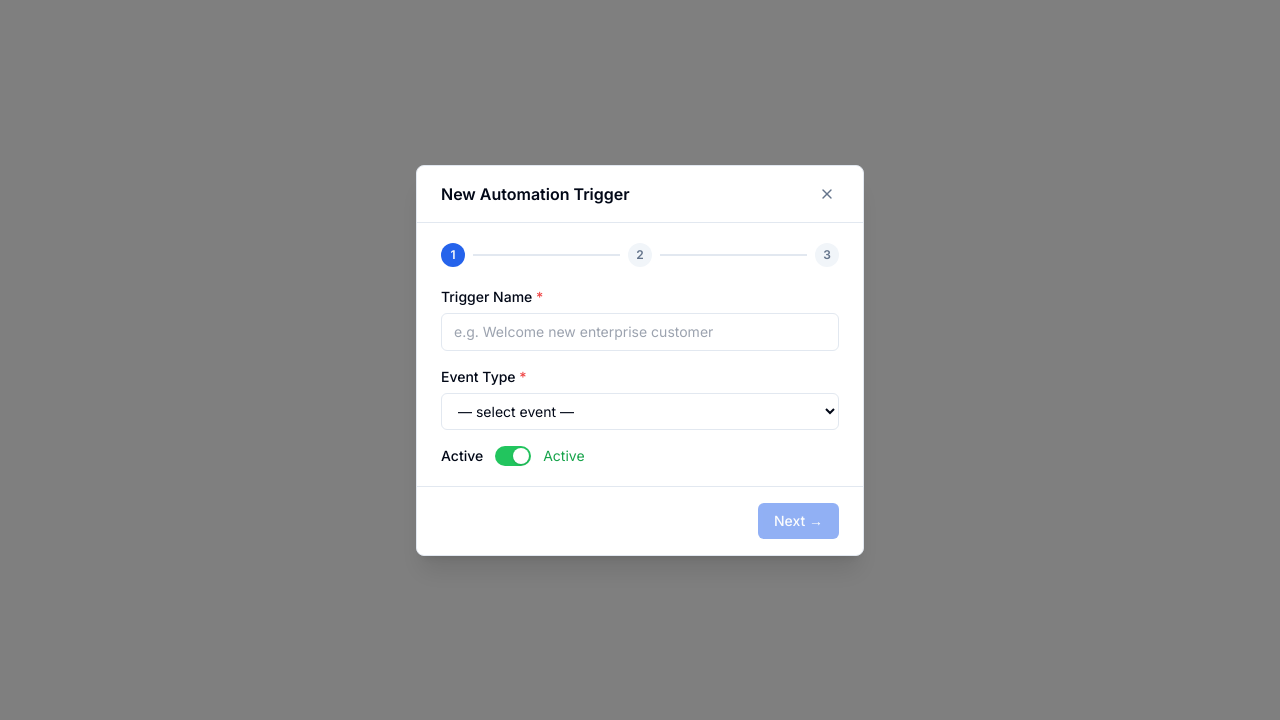
Test: CreateTriggerModal › value input is hidden for is_empty operator
This screenshot has width=1280, height=720.
Type "My Trigger" into the field labelled "Trigger Name *".
click(640, 332); type("My Trigger")  # box [441,312,839,350]
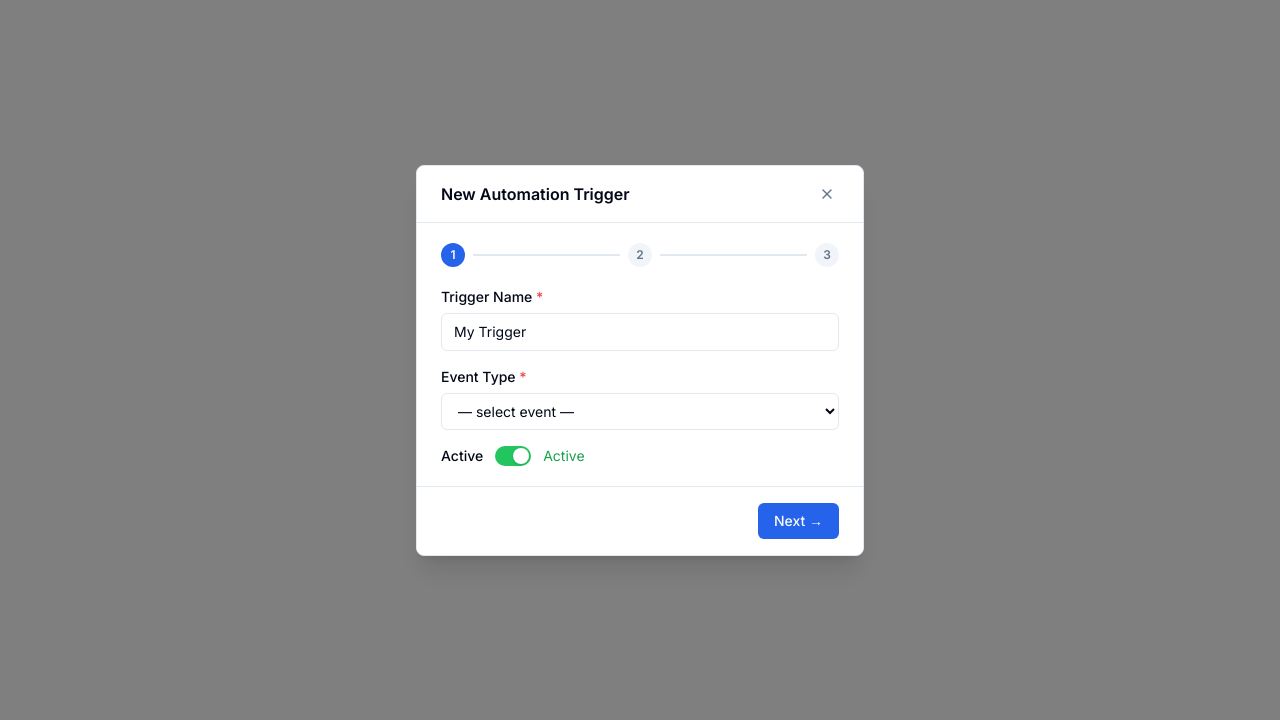
Click the button "Next →".
click(798, 520)  # box [758,502,839,538]
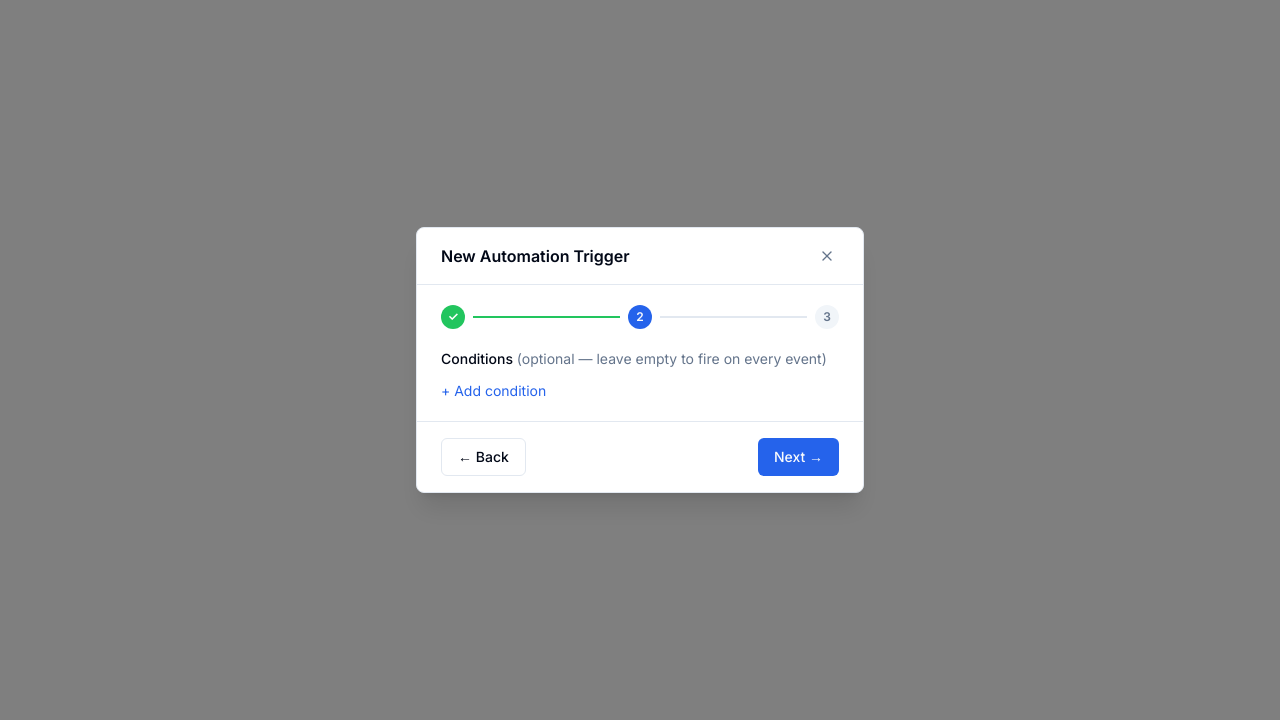
Click the button "+ Add condition".
click(494, 391)  # box [441,381,546,401]
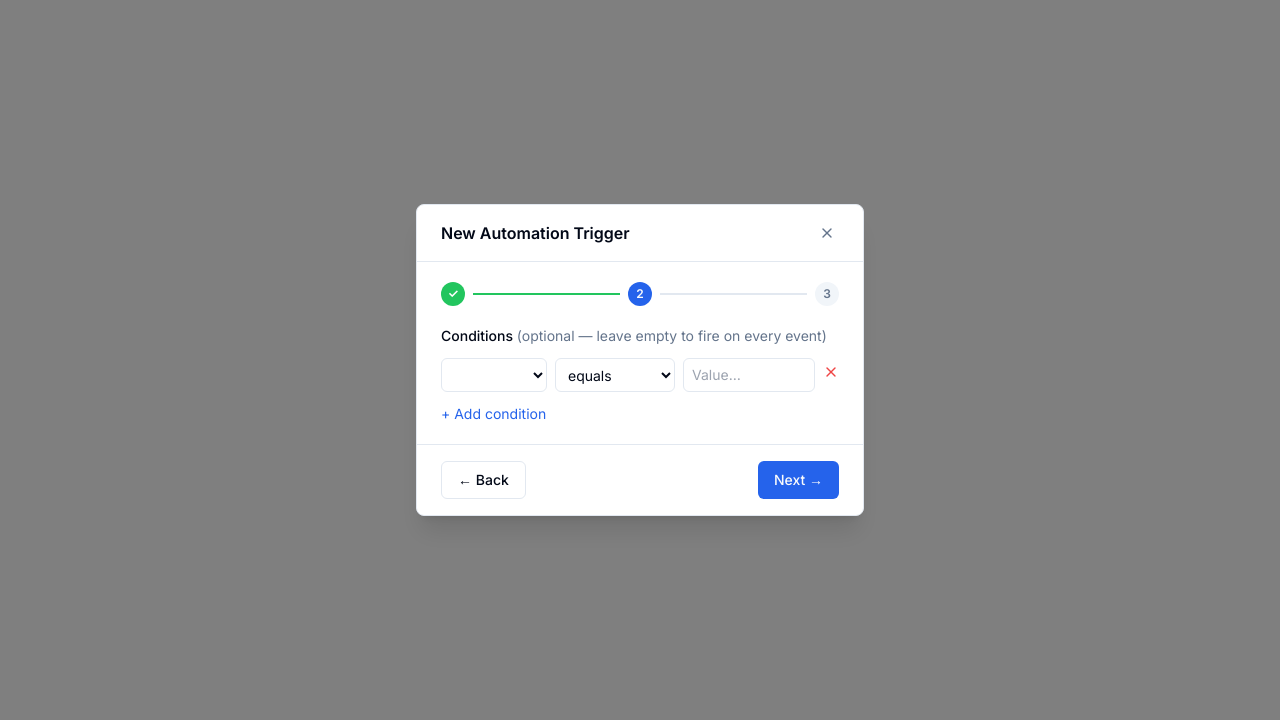
Select "is empty" in the dropdown named "operator" at (615, 375), box [555,358,675,392]
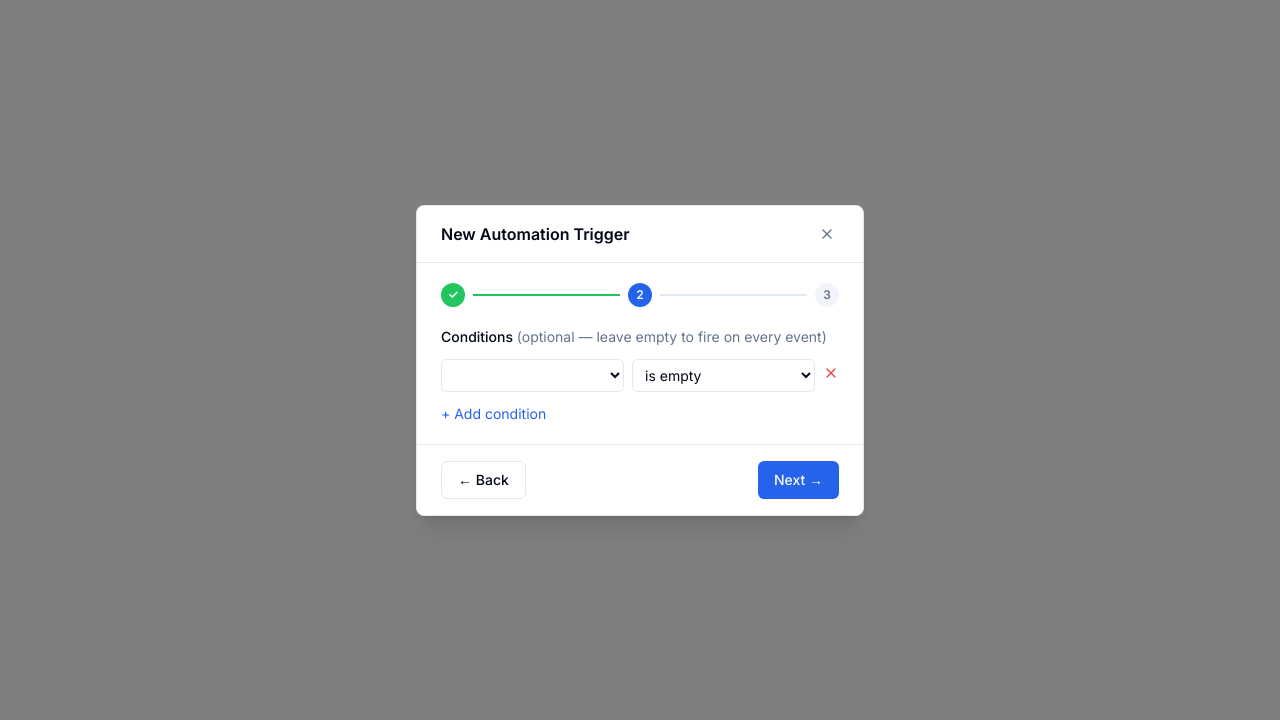
Expected: the field labelled "value" is gone
